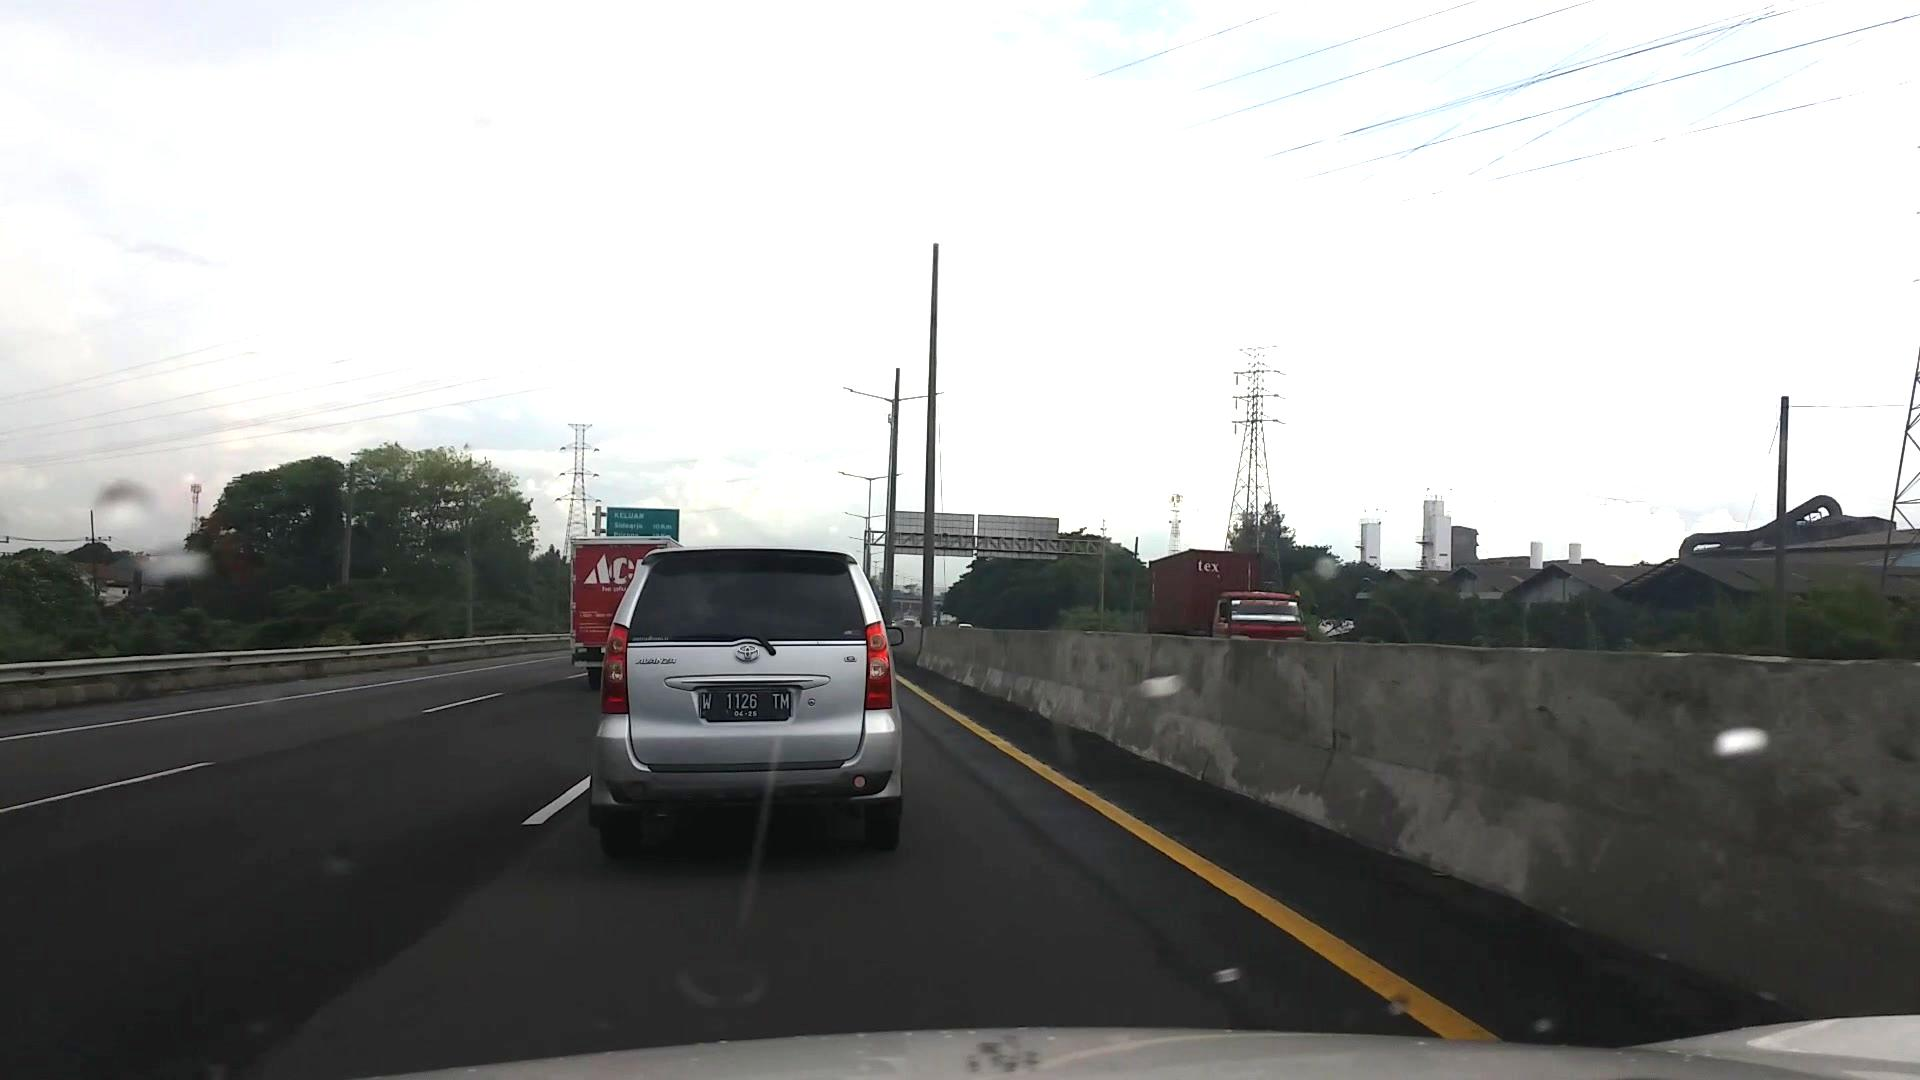plate_positive: (698, 690, 793, 721)
